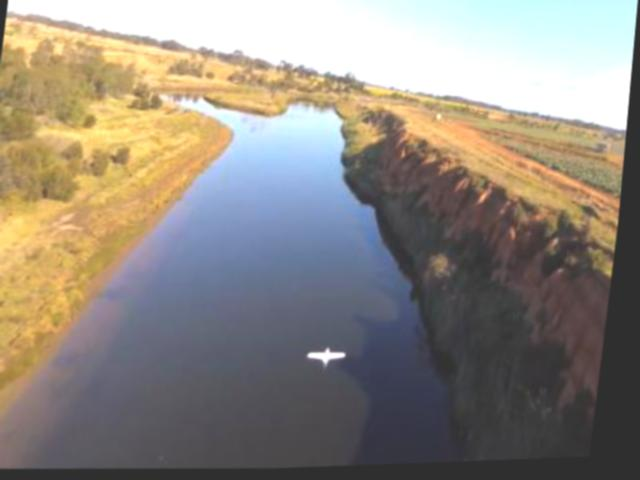uav: (313, 347, 354, 373)
